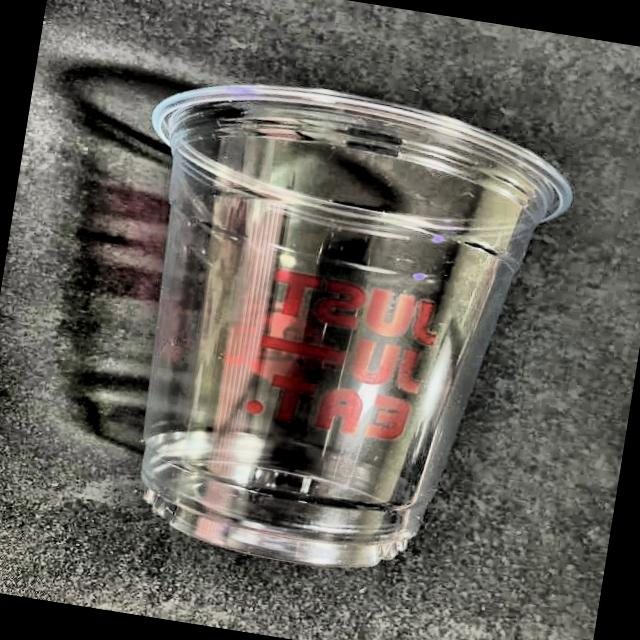plastic cup: (79, 64, 584, 599)
